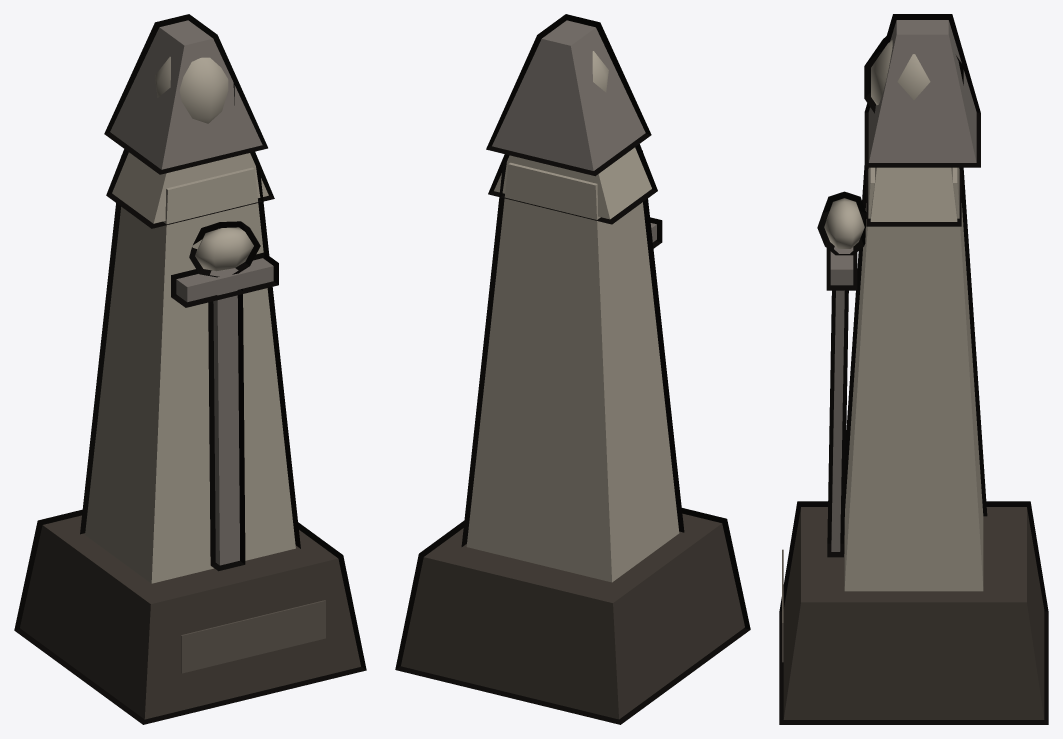
The model's file is statue.glb.
3 views of the same model, side by side, from view 1: azimuth 30°, elevation 25°; view 2: azimuth 150°, elevation 25°; view 3: azimuth 270°, elevation 25° (orthographic). The views are drawn at different scales.
Parts seen in each view (by area): view 1: Prop_dq_statue; view 2: Prop_dq_statue; view 3: Prop_dq_statue.
Boxes of the visible parts, <box> form: Prop_dq_statue: <box>14,14,366,724</box>; Prop_dq_statue: <box>395,14,750,724</box>; Prop_dq_statue: <box>779,14,1048,724</box>.
Bounding box in the file's own units: 1.55 × 4.1 × 1.55.
